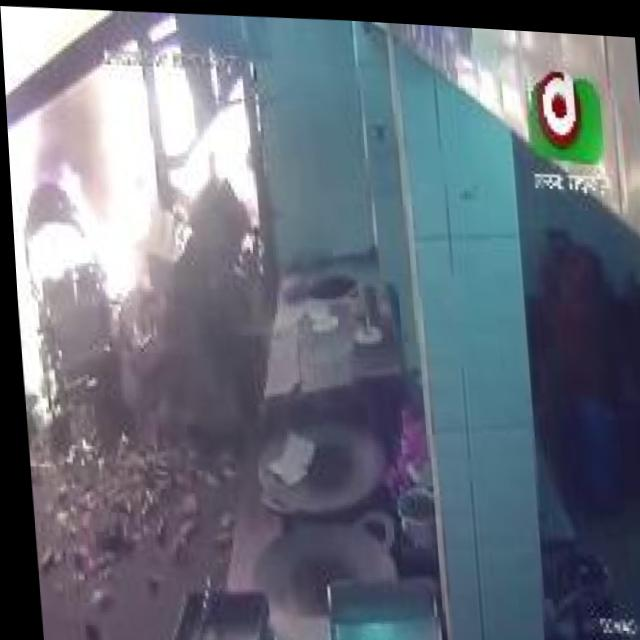fire: (78, 8, 264, 299), (0, 6, 121, 427)
